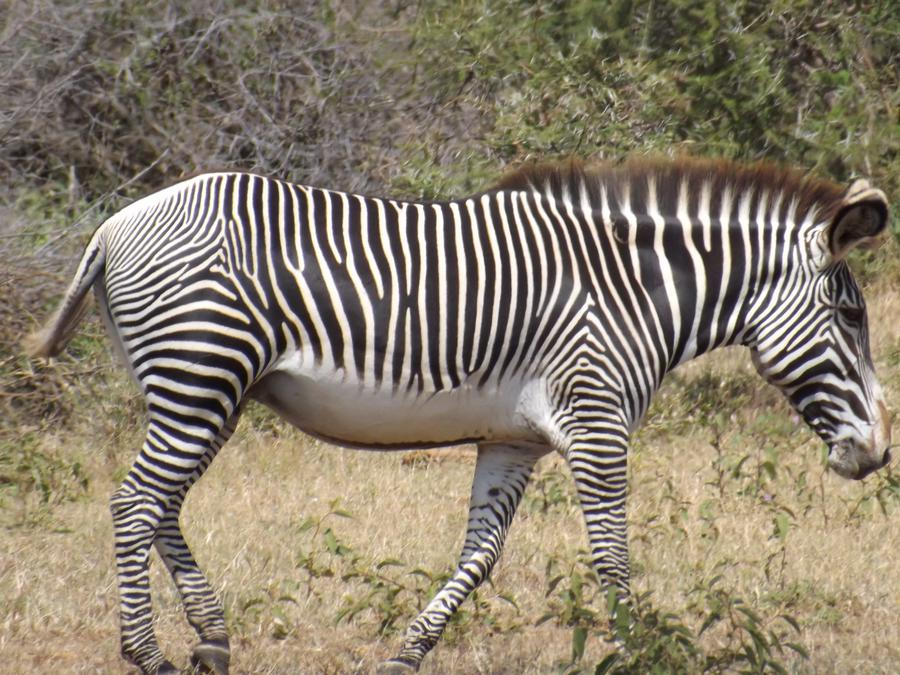zebra_grevys: (92, 149, 646, 438)
